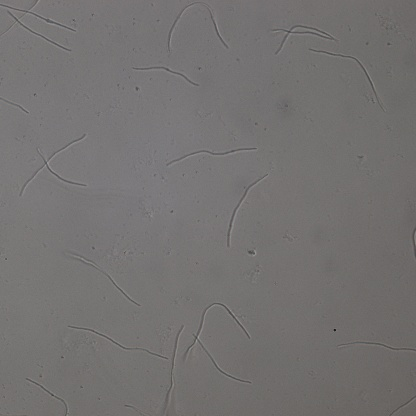Sensitive: (185, 301, 254, 385), (311, 49, 383, 111), (20, 131, 86, 196), (65, 250, 139, 305), (1, 1, 77, 51), (66, 325, 168, 360), (167, 1, 230, 52), (228, 172, 268, 246), (269, 22, 336, 56), (165, 143, 257, 167), (163, 320, 184, 410), (27, 378, 70, 416), (133, 65, 199, 87), (336, 339, 416, 352)
